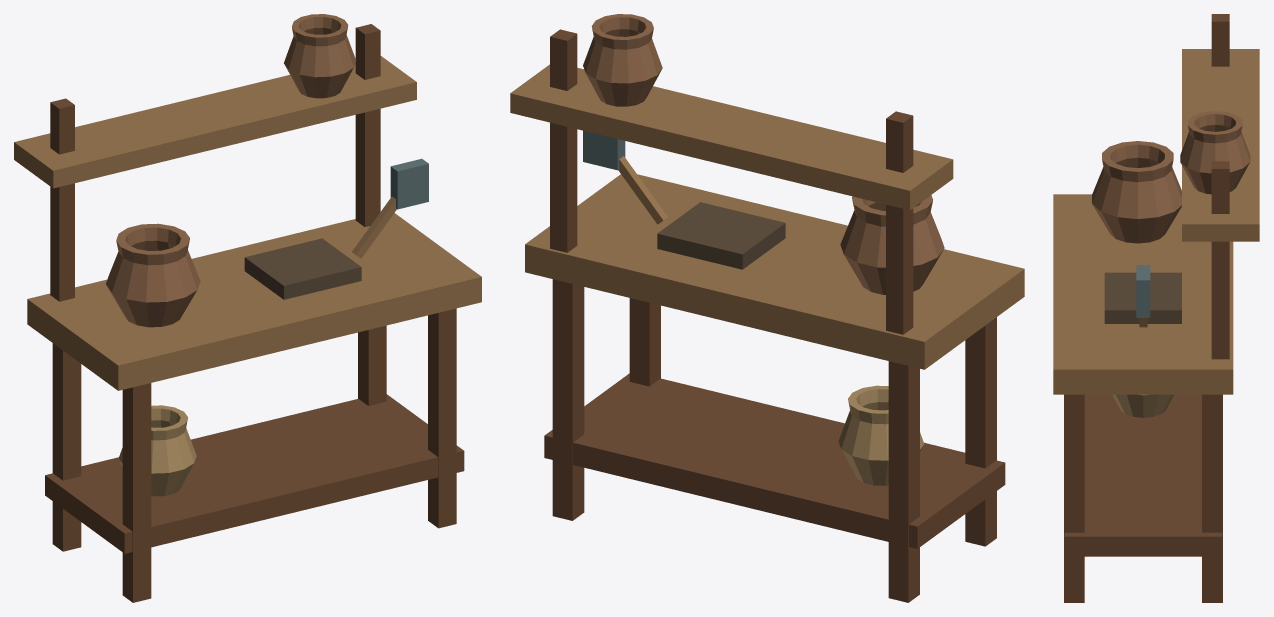
The model's file is Prop_Daily_PottingBench_001.glb.
3 views of the same model, side by side, from view 1: azimuth 30°, elevation 25°; view 2: azimuth 150°, elevation 25°; view 3: azimuth 270°, elevation 25° (orthographic). The views are drawn at different scales.
Parts seen in each view (by area): view 1: Prop_Daily_PottingBench_001; view 2: Prop_Daily_PottingBench_001; view 3: Prop_Daily_PottingBench_001.
Boxes of the visible parts, x1,y1,x2,y2 form: Prop_Daily_PottingBench_001: (14,14,481,602); Prop_Daily_PottingBench_001: (510,14,1024,602); Prop_Daily_PottingBench_001: (1053,14,1259,602).
Bounding box in the file's own units: 1.5 × 1.8 × 0.745.
